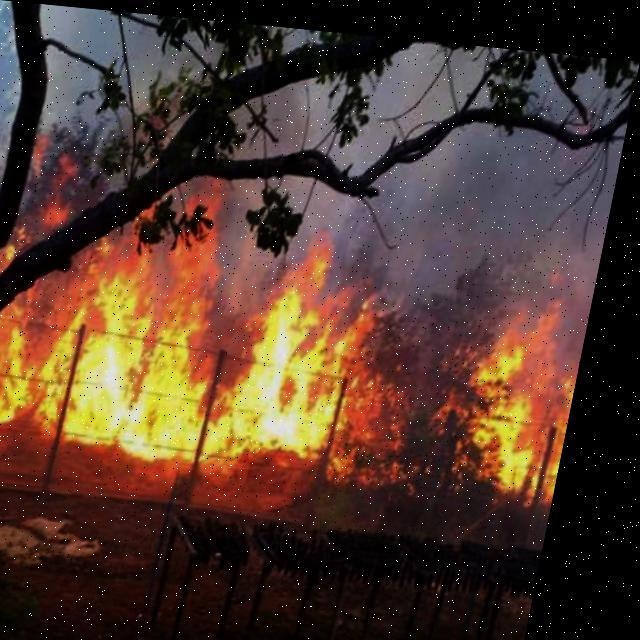Fire: (0, 176, 460, 498), (448, 277, 600, 494)
